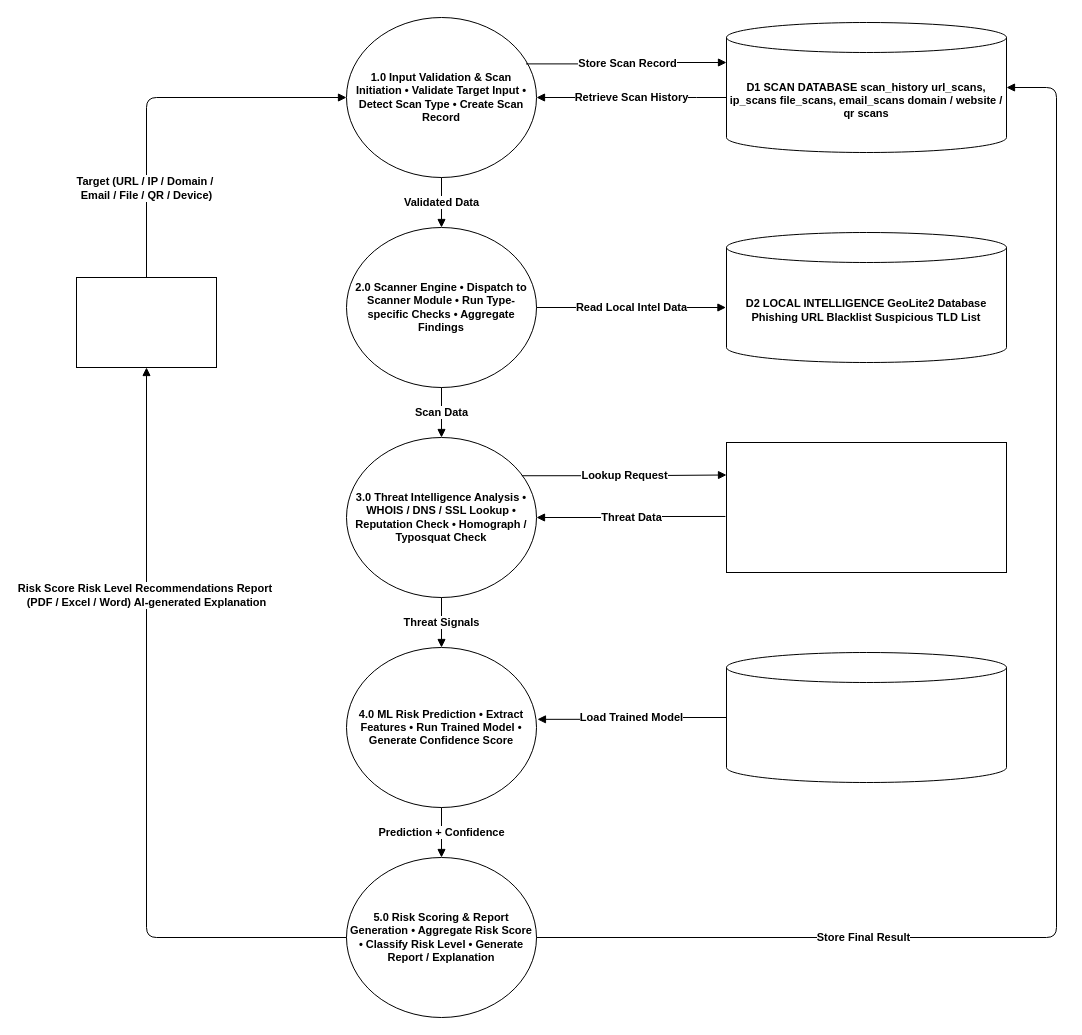
The diagram is 1082 pixels wide and 1035 high, and some of its shapes have lost their labels. The centre of each missing label's shape, as x and y in pixels:
D3 ML MODEL REPOSITORY Phishing / URL / Domain / IP / File Risk Models: pixel 866 717
EXTERNAL THREAT INTEL APIs VirusTotal, AbuseIPDB, Google Safe Browsing, IPinfo: pixel 866 507
USER: pixel 146 322
